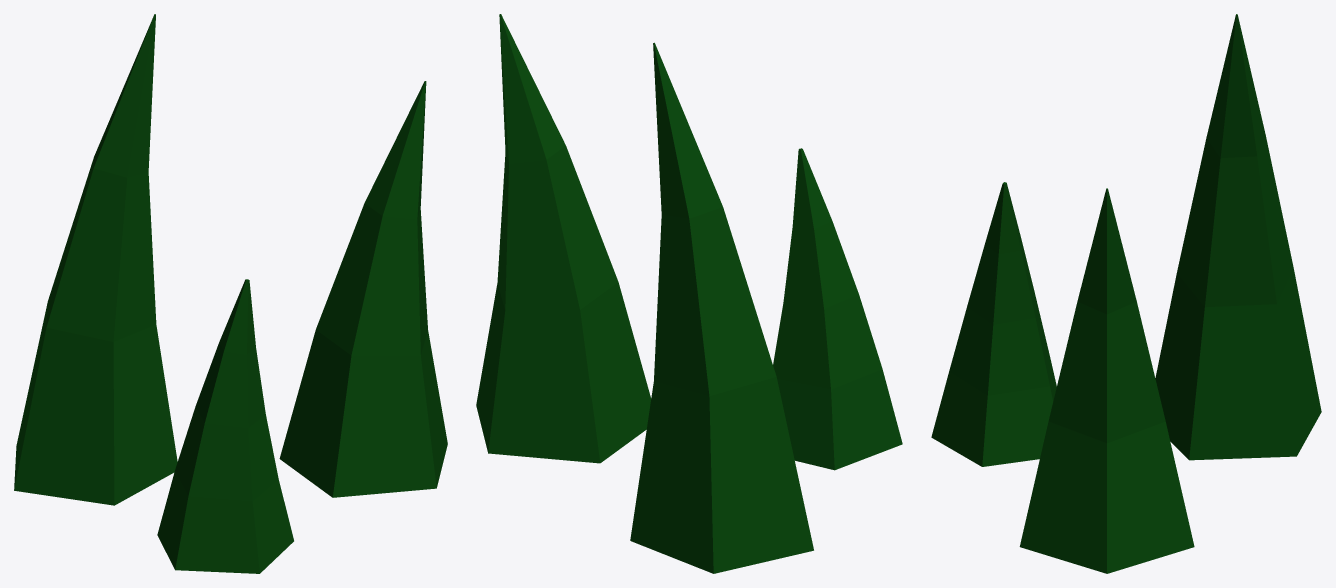
Rendered from grass_1.fbx.
3 views of the same model, side by side, from view 1: azimuth 30°, elevation 25°; view 2: azimuth 150°, elevation 25°; view 3: azimuth 270°, elevation 25° (orthographic). The views are drawn at different scales.
Parts seen in each view (by area): view 1: Cylinder051, Cylinder050, Cylinder052; view 2: Cylinder051, Cylinder050, Cylinder052; view 3: Cylinder051, Cylinder050, Cylinder052.
Boxes of the visible parts, x1,y1,x2,y2 form: Cylinder051: [14, 14, 177, 505]; Cylinder050: [279, 81, 447, 497]; Cylinder052: [157, 279, 293, 573]; Cylinder051: [630, 42, 813, 573]; Cylinder050: [476, 14, 651, 463]; Cylinder052: [773, 148, 902, 470]; Cylinder051: [1155, 14, 1321, 460]; Cylinder050: [1019, 188, 1194, 573]; Cylinder052: [931, 182, 1056, 466].
Size of the model in its own units: 23.84 by 26.77 by 21.22.
